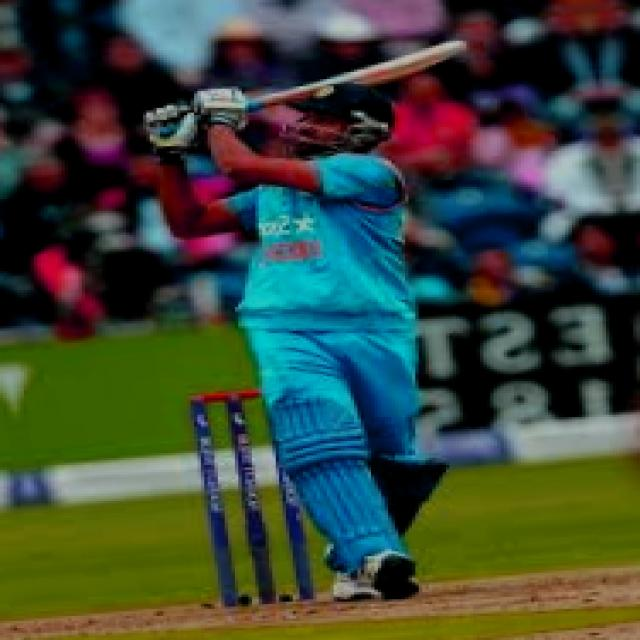toe: (432, 37, 471, 57)
